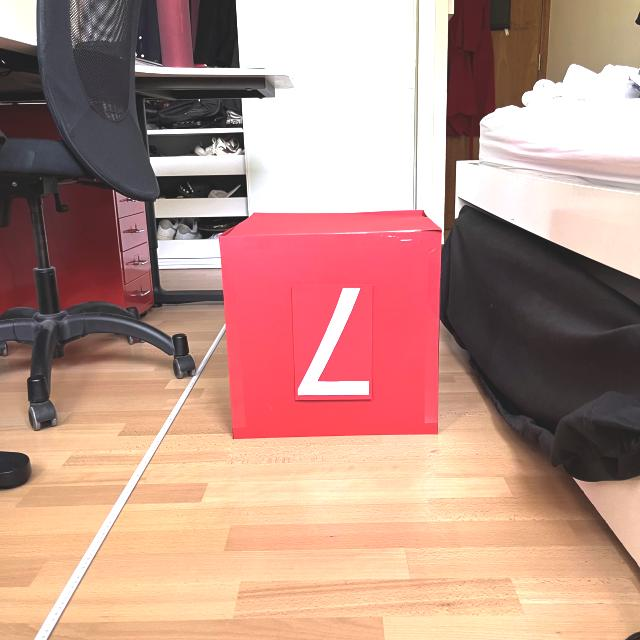box: (213, 205, 445, 440)
